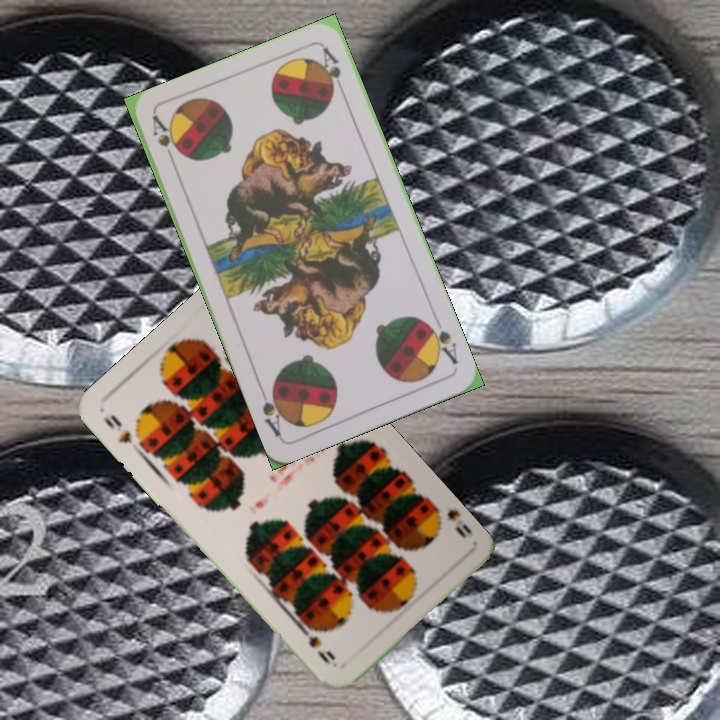S9: (99, 410, 143, 456), (430, 501, 469, 541)
SA: (421, 312, 461, 368), (148, 112, 182, 169)
